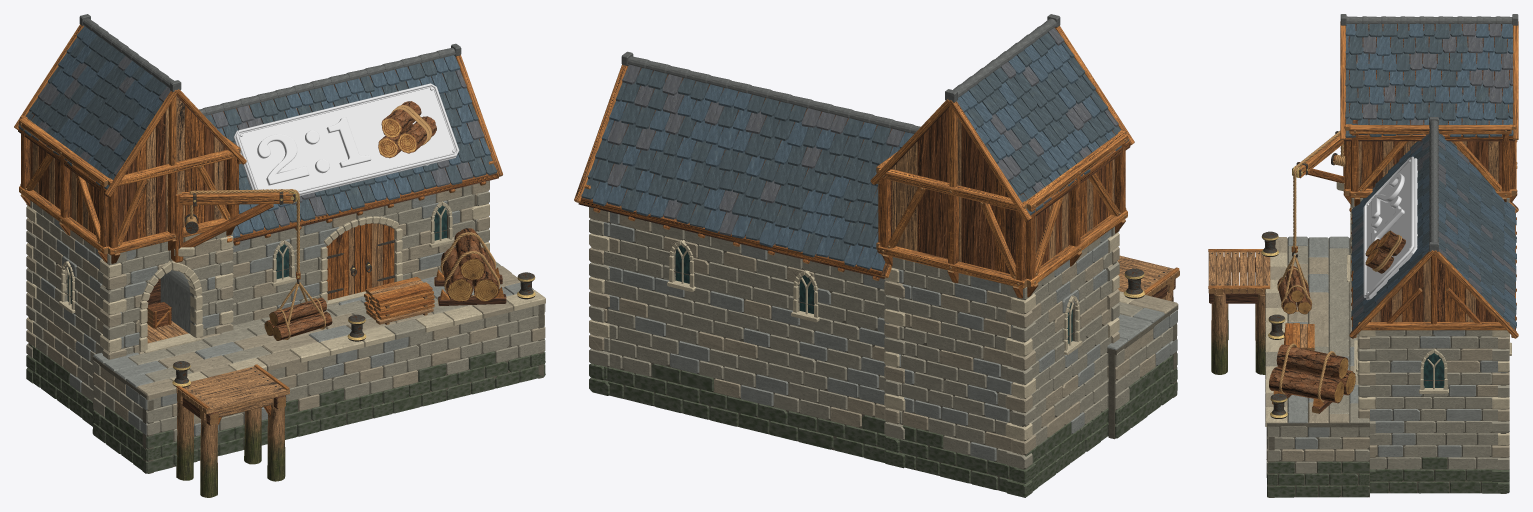
Rendered from lumber-harbor.fbx.
The picture shows the model from 3 angles, left to right: view 1: azimuth 30°, elevation 25°; view 2: azimuth 150°, elevation 25°; view 3: azimuth 270°, elevation 25°; orthographic projection. The views are drawn at different scales.
Parts seen in each view (by area): view 1: HarborHouse, PierDeck, TradePlaque, LogStack, TimberHoist; view 2: HarborHouse, PierDeck; view 3: HarborHouse, PierDeck, TradePlaque, LogStack, TimberHoist.
Part boxes in pixels (x1,y1,x2,y2): HarborHouse: (14, 14, 502, 426); PierDeck: (92, 261, 545, 497); TradePlaque: (233, 83, 459, 195); LogStack: (364, 228, 506, 324); TimberHoist: (171, 189, 332, 340); HarborHouse: (574, 14, 1134, 497); PierDeck: (1106, 255, 1179, 439); HarborHouse: (1340, 14, 1518, 493); PierDeck: (1208, 231, 1369, 497); TradePlaque: (1363, 156, 1417, 300); LogStack: (1269, 323, 1355, 413); TimberHoist: (1277, 131, 1345, 314).
Size of the model in its own units: 0.0248 by 0.0211 by 0.0175.
